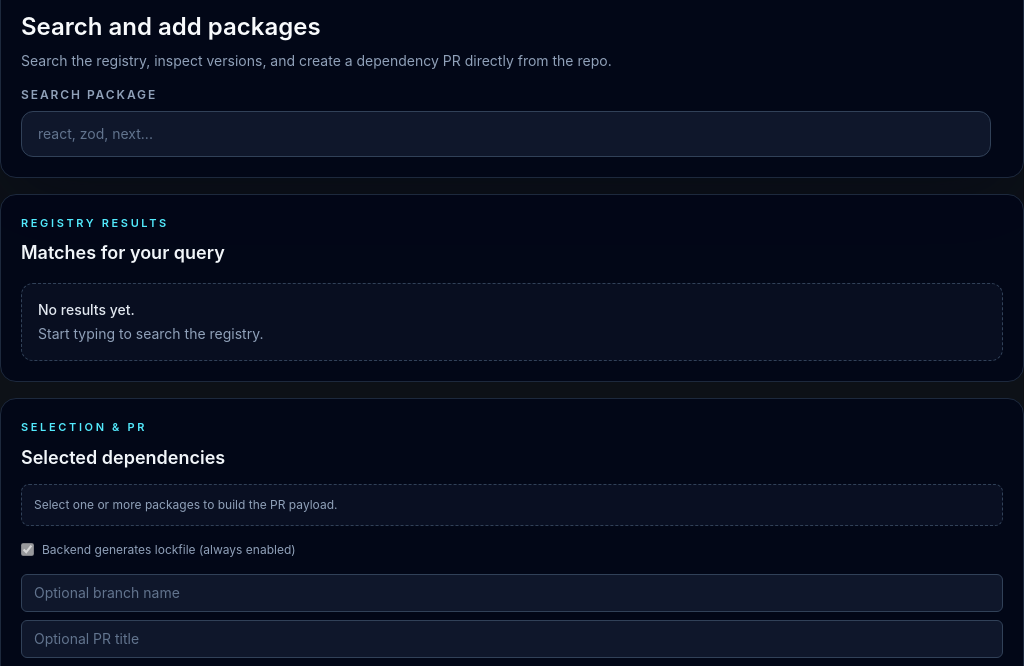
Test: AddDependencyPanel › loads more packages when the results sentinel intersects
In the search field labelled "Search package": (506, 134) x1=21 y1=110 x2=991 y2=156, type "package"
(page scrolled)
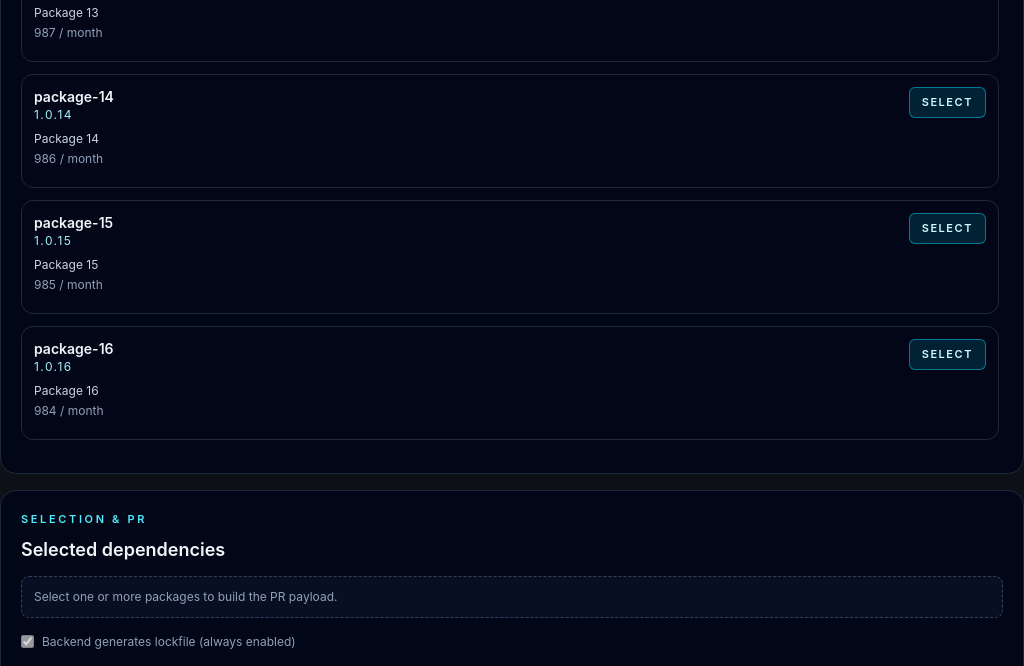
Now the text "package-16" is shown, box x1=34 y1=339 x2=114 y2=359
